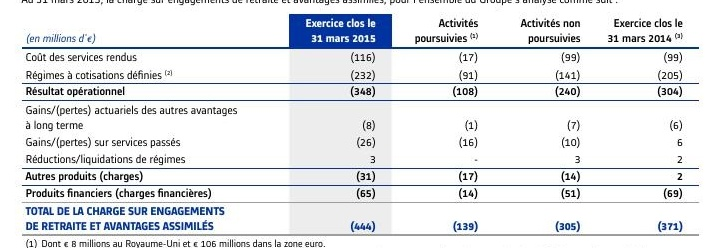table: (0, 0, 714, 248)
